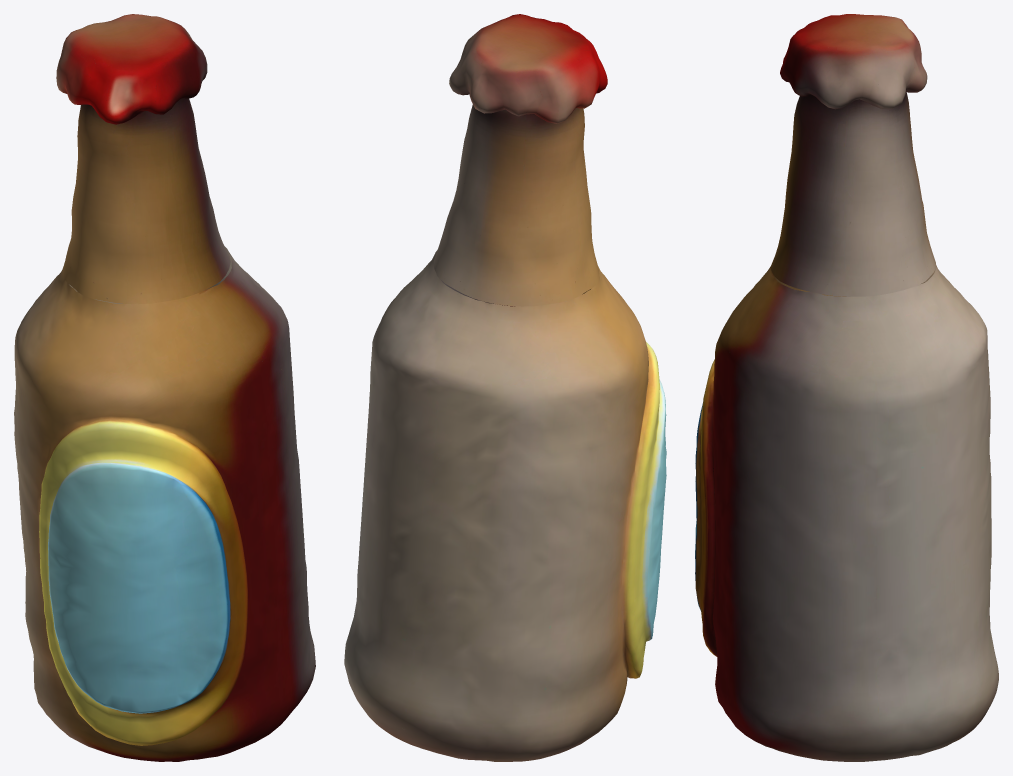
The model's file is Stack 1A - Beer.glb.
3 renders of one model, left to right at view 1: azimuth 30°, elevation 25°; view 2: azimuth 150°, elevation 25°; view 3: azimuth 270°, elevation 25°, orthographic. The views are drawn at different scales.
Parts seen in each view (by area): view 1: Beer part 1, Beer part 2, Beer part 3; view 2: Beer part 1, Beer part 2, Beer part 3; view 3: Beer part 1, Beer part 2, Beer part 3.
Boxes of the visible parts, <box> form: Beer part 1: <box>14,247,315,761</box>; Beer part 2: <box>62,98,230,304</box>; Beer part 3: <box>56,14,207,124</box>; Beer part 1: <box>344,250,666,761</box>; Beer part 2: <box>433,104,599,306</box>; Beer part 3: <box>449,14,607,123</box>; Beer part 1: <box>695,265,998,761</box>; Beer part 2: <box>770,92,935,296</box>; Beer part 3: <box>780,14,927,109</box>.
Size of the model in its own units: 0.4033 by 1 by 0.4009.
3 materials, 3 textured.
